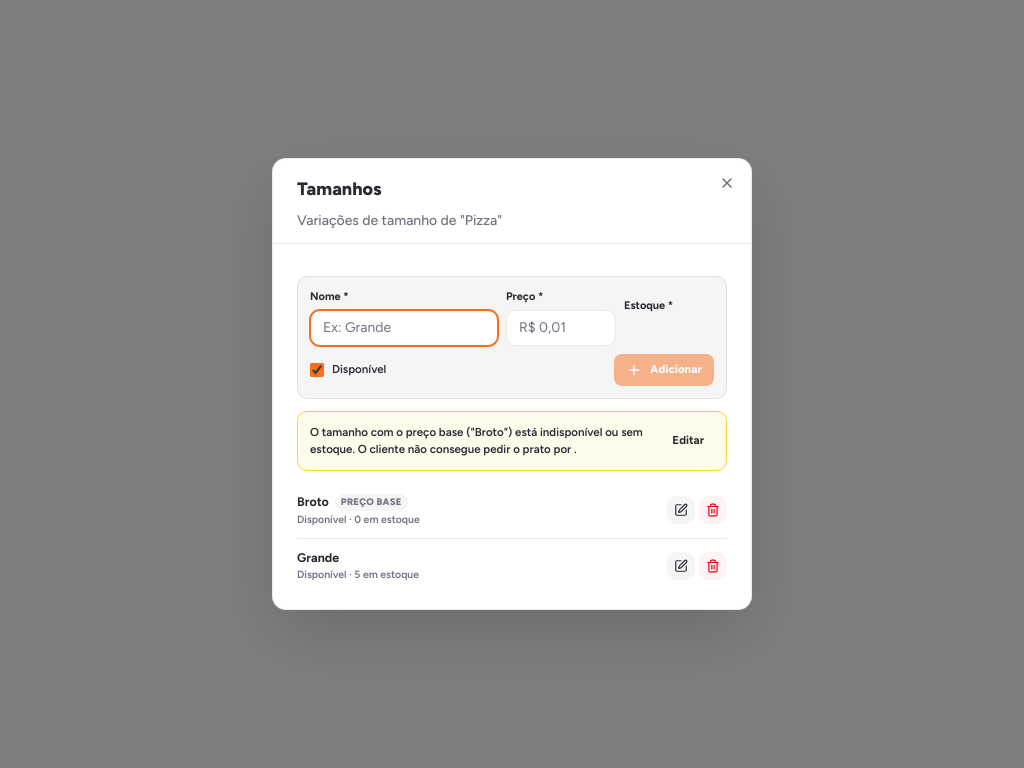
Test: ProductVariationsDialog - prato sem tamanho base › aponta pra edição quando o base existe sem estoque, em vez de duplicar
Check: the text "indisponível ou sem estoque" is shown, box x1=310 y1=424 x2=643 y2=456
Click the button "Editar": (688, 441) x1=662 y1=425 x2=714 y2=457
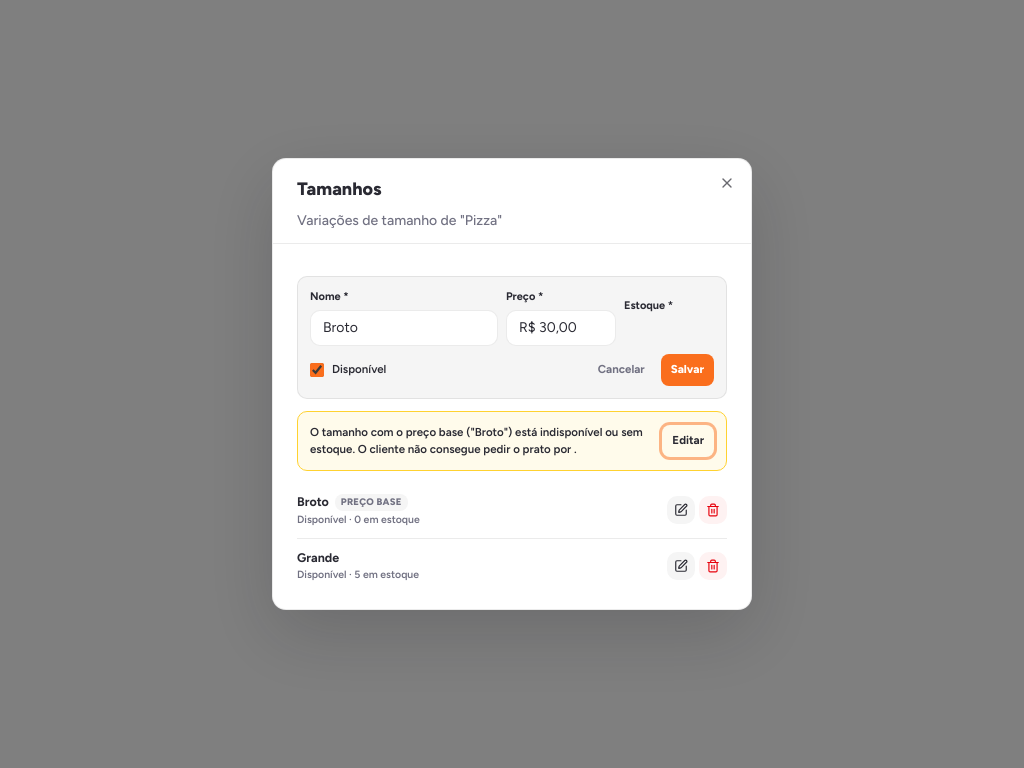
Check: the field with placeholder "Ex: Grande" below "Nome *" holds "Broto", box x1=310 y1=310 x2=498 y2=346
